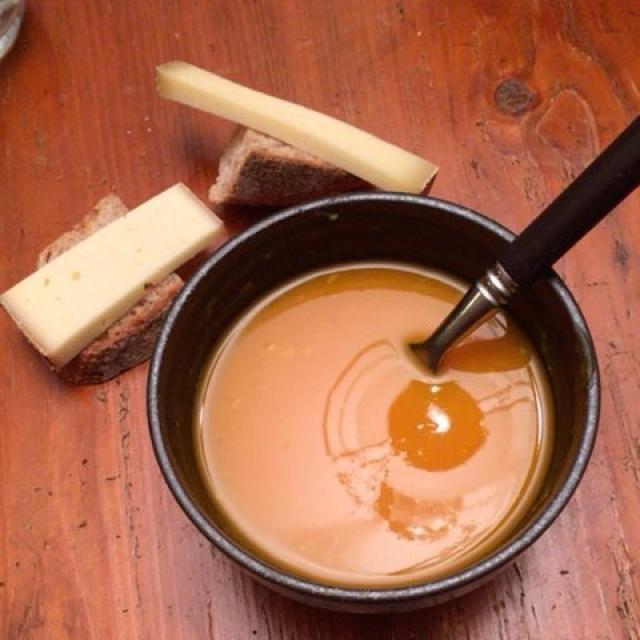bread: (30, 122, 378, 378)
soup: (201, 264, 537, 574)
